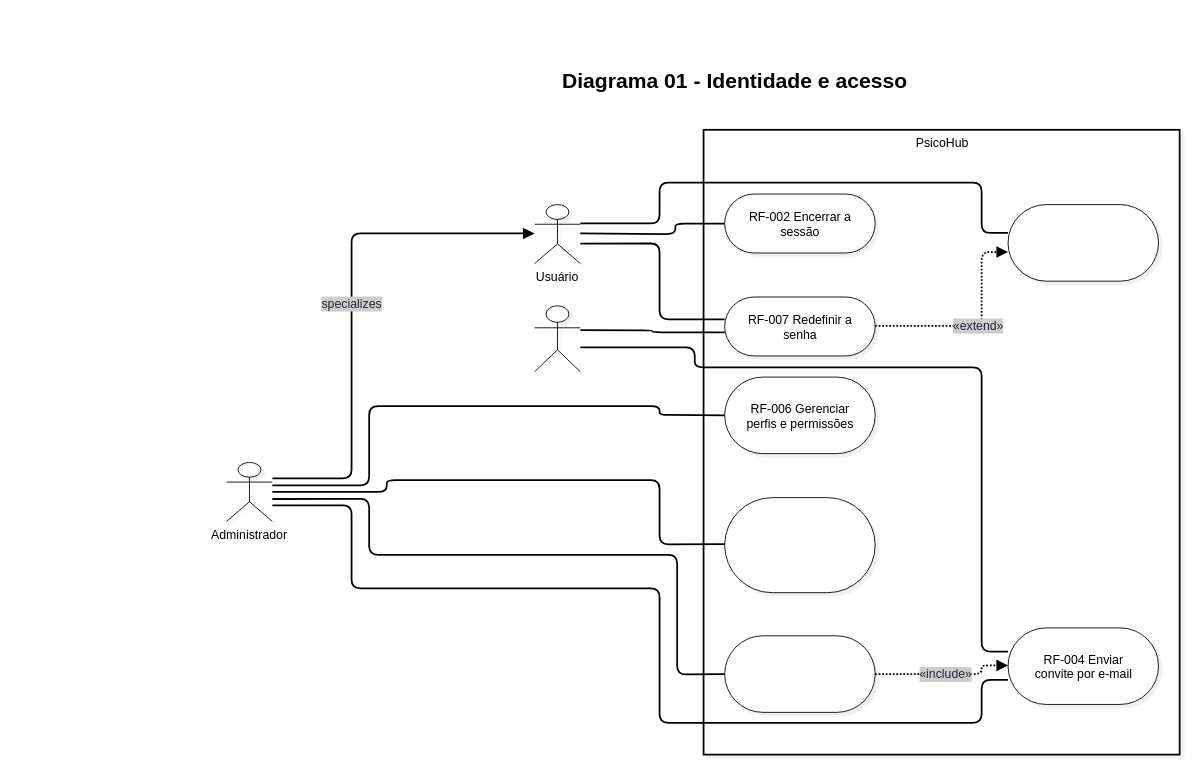
The diagram is 1199 pixels wide and 774 high, and some of its shapes have lost their labels. The centre of each missing label's shape, as x and y in pixels:
RF-001 Autenticar usuário: (1084,244)
RF-003 Cadastrar usuário e atribuir perfil: (801,675)
RF-005 Ativar, inativar e bloquear usuários: (801,546)
Serviço de e-mail: (559,340)
